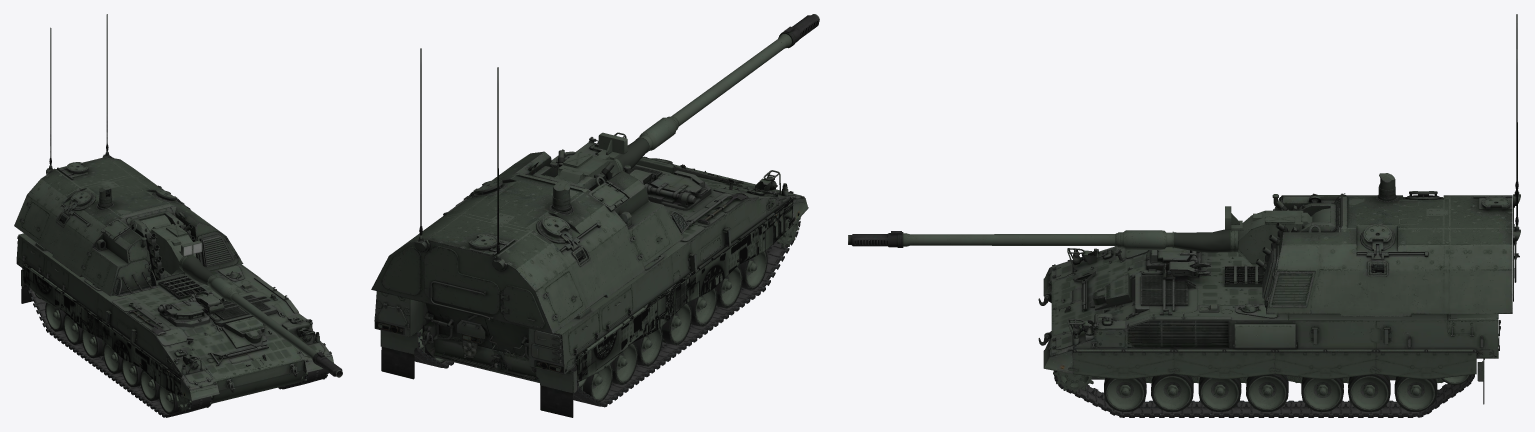
Rendered from spg.glb.
The picture shows the model from 3 angles, left to right: view 1: azimuth 30°, elevation 25°; view 2: azimuth 150°, elevation 25°; view 3: azimuth 270°, elevation 25°; orthographic projection. The views are drawn at different scales.
Parts seen in each view (by area): view 1: hull__PzH_2000Hull_252_0, g_turret_pzh2000__PzH_2000Turret_774_0, g_cannonbase_pzh2000_l52mk2__PzH_2000Cannon_499_0, suspension_left__PzH_2000Wheels_704_0, tread_left__PzH_2000Tracks_873_0, antenna_long__PzH_2000Gear_442_0; view 2: g_turret_pzh2000__PzH_2000Turret_774_0, hull__PzH_2000Hull_252_0, suspension_left__PzH_2000Wheels_704_0, g_cannonbase_pzh2000_l52mk2__PzH_2000Cannon_499_0, tread_left__PzH_2000Tracks_873_0, antenna_long__PzH_2000Gear_442_0; view 3: hull__PzH_2000Hull_252_0, g_turret_pzh2000__PzH_2000Turret_774_0, antenna_long__PzH_2000Gear_442_0, suspension_left__PzH_2000Wheels_704_0, g_cannonbase_pzh2000_l52mk2__PzH_2000Cannon_499_0, tread_left__PzH_2000Tracks_873_0.
Part boxes in pixels (box(x1,y1,x2,y2)): hull__PzH_2000Hull_252_0: box(16, 233, 333, 403); g_turret_pzh2000__PzH_2000Turret_774_0: box(14, 144, 243, 296); g_cannonbase_pzh2000_l52mk2__PzH_2000Cannon_499_0: box(140, 215, 342, 377); suspension_left__PzH_2000Wheels_704_0: box(34, 293, 327, 414); tread_left__PzH_2000Tracks_873_0: box(25, 284, 328, 417); antenna_long__PzH_2000Gear_442_0: box(50, 14, 107, 157); g_turret_pzh2000__PzH_2000Turret_774_0: box(371, 150, 689, 333); hull__PzH_2000Hull_252_0: box(374, 132, 808, 417); suspension_left__PzH_2000Wheels_704_0: box(418, 217, 800, 401); g_cannonbase_pzh2000_l52mk2__PzH_2000Cannon_499_0: box(545, 14, 819, 183); tread_left__PzH_2000Tracks_873_0: box(414, 221, 800, 407); antenna_long__PzH_2000Gear_442_0: box(420, 48, 498, 244); hull__PzH_2000Hull_252_0: box(1038, 246, 1500, 404); g_turret_pzh2000__PzH_2000Turret_774_0: box(1255, 173, 1520, 316); antenna_long__PzH_2000Gear_442_0: box(1068, 14, 1517, 379); suspension_left__PzH_2000Wheels_704_0: box(1053, 357, 1470, 411); g_cannonbase_pzh2000_l52mk2__PzH_2000Cannon_499_0: box(848, 206, 1330, 264); tread_left__PzH_2000Tracks_873_0: box(1053, 351, 1474, 417).
Size of the model in its own units: 3.64 by 6.34 by 11.3.
6 materials, 6 textured.
